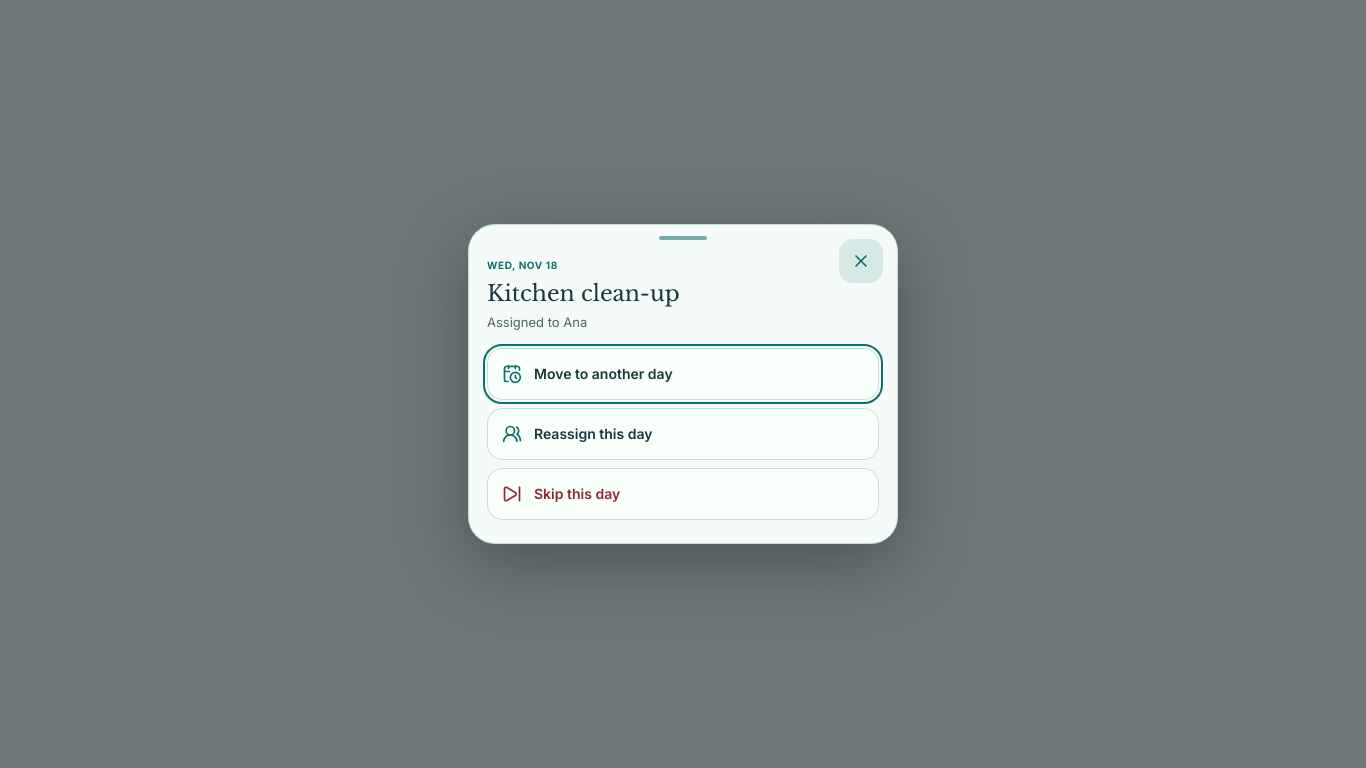
Scenario: OccurrenceActionSheet › lets a reassign choose no more people than the chore needs
Later steps or results of the test are not shown.
Click the button "Reassign this day" at (593, 434), box [487,408,879,460]
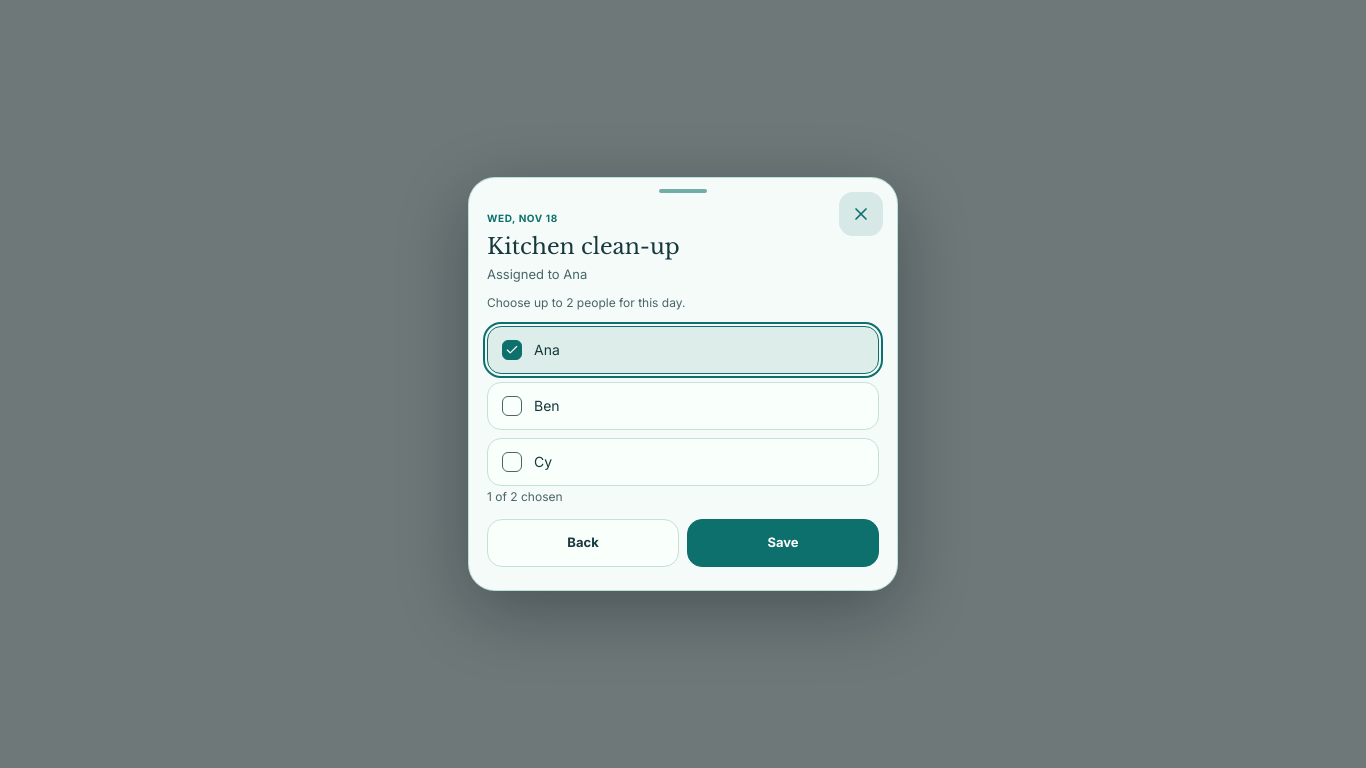
Click the button "Ben" at (512, 406), box [487,382,879,430]
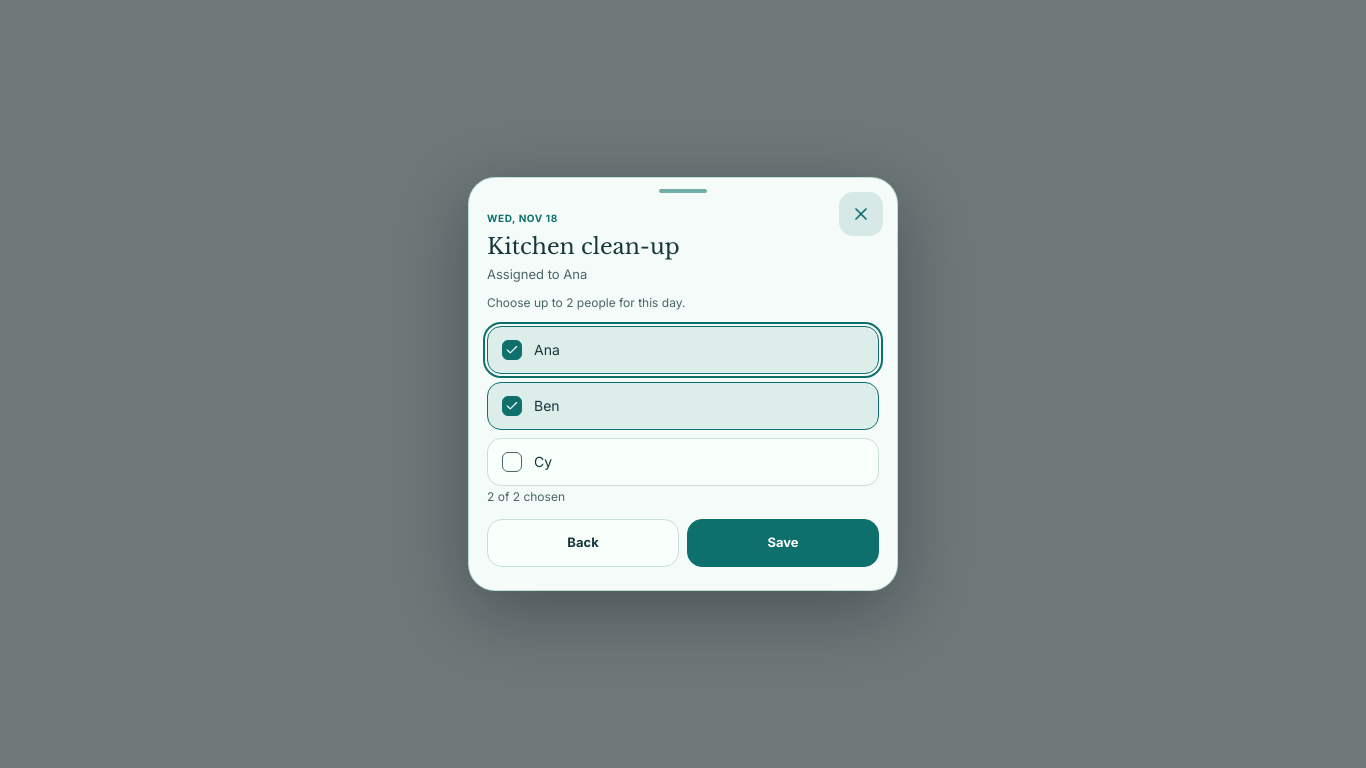
Expected: the text "2 of 2 chosen" is shown, [487,489,565,504]
Click the button "Cy" at (512, 462), box [487,438,879,486]
Expected: the button "Cy" is disabled, [487,438,879,486]
